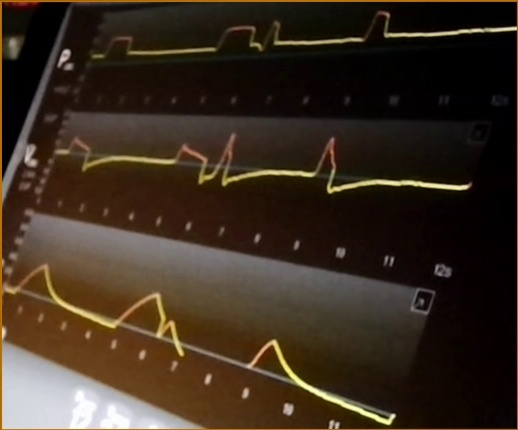Double_Triggering Flow: (59, 123, 465, 200)
Double_Triggering Volume: (6, 261, 398, 423)
